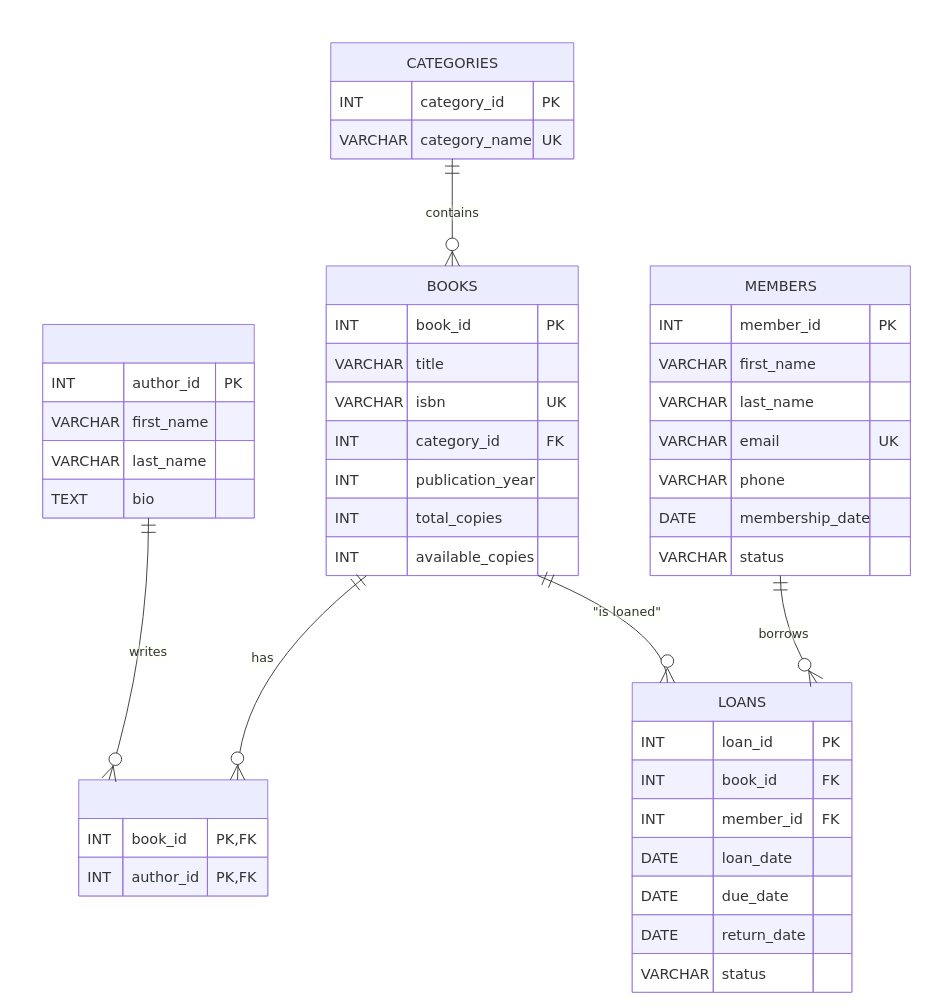
Image size: 926x1008. Some labels were removed from this diagram. Here are the shapes that lost their labels. From the top down, the box of each, then its label:
(42, 324, 254, 518): AUTHORS
(78, 779, 268, 896): BOOK_AUTHORS
